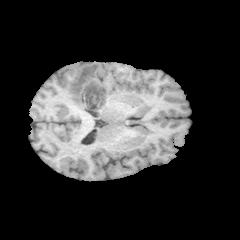glioma: (68, 63, 109, 111)
